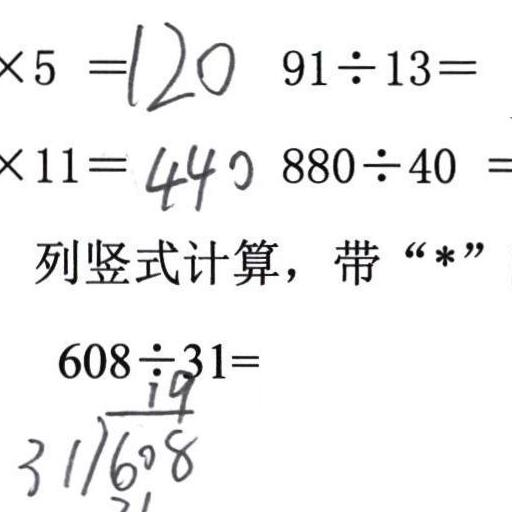ans: (120, 15, 235, 111), (140, 136, 253, 212)
